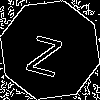Z: (25, 25, 67, 78)
